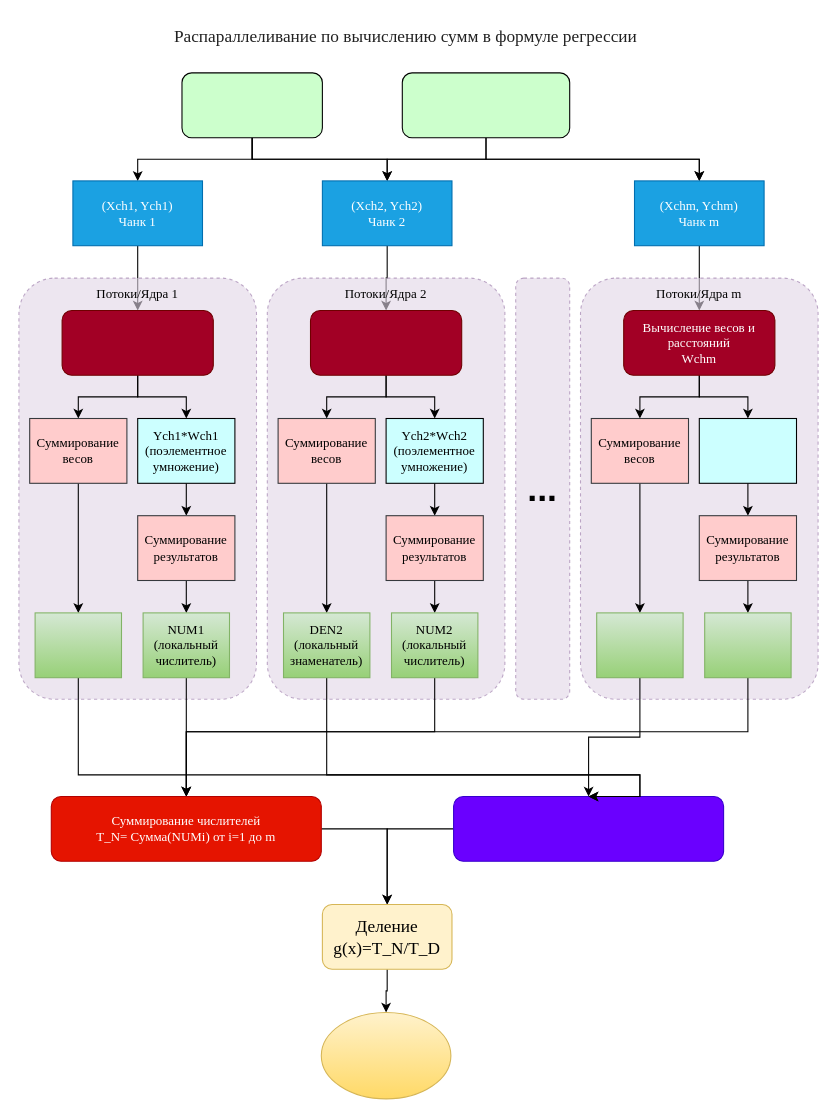
Image size: 837x1118. Some labels were removed from this diagram. The shapes that lost their labels are listed below. From the top down, each one's centre as x and y in pixels, then its label:
point (251, 105): Точка Запроса Х
point (485, 105): Параметр размытости h (фиксированный)
point (137, 342): Вычисление весов и расстояний Wch1
point (385, 342): Вычисление весов и расстояний Wch2
point (747, 450): Ychm*Wchm (поэлементное умножение)
point (78, 645): DEN1 (локальный знаменатель)
point (639, 645): DENm (локальный знаменатель)
point (747, 645): NUMm (локальный числитель)
point (588, 828): Суммирование знаменателя T_D= Сумма(DENi) от i=1 до m
point (385, 1055): g(x) значение регресии
